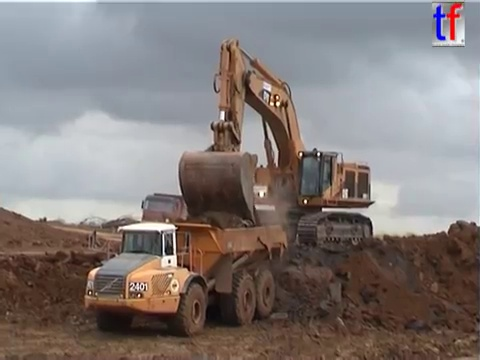excavator: (174, 35, 378, 252)
truck: (82, 218, 291, 338), (139, 191, 234, 240)
